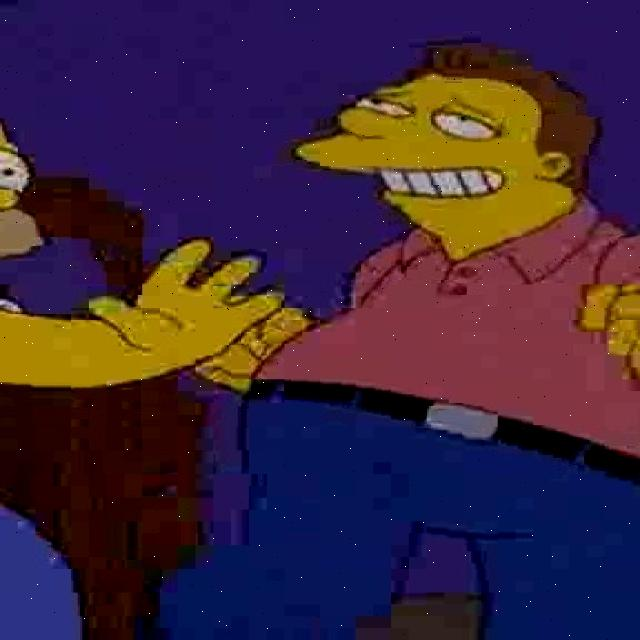Barney Gumble: (292, 42, 610, 257)
